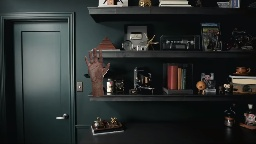Mano_aperta: (83, 47, 111, 81)
